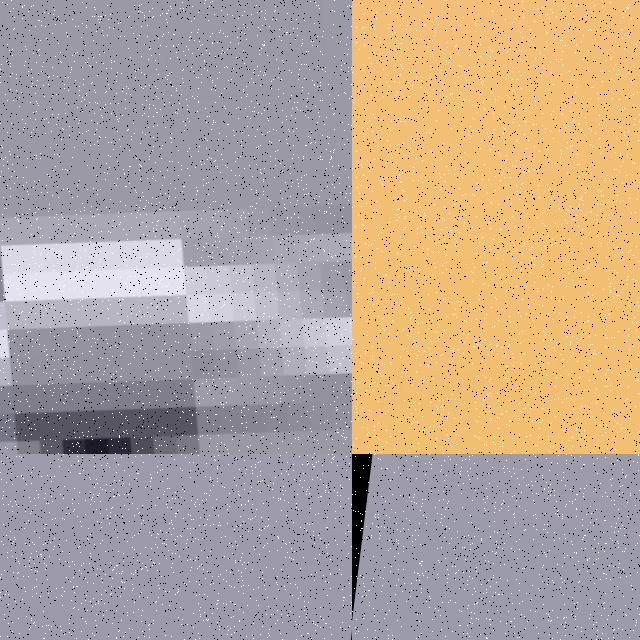0: (0, 0, 352, 454)
drone: (352, 0, 640, 454)
